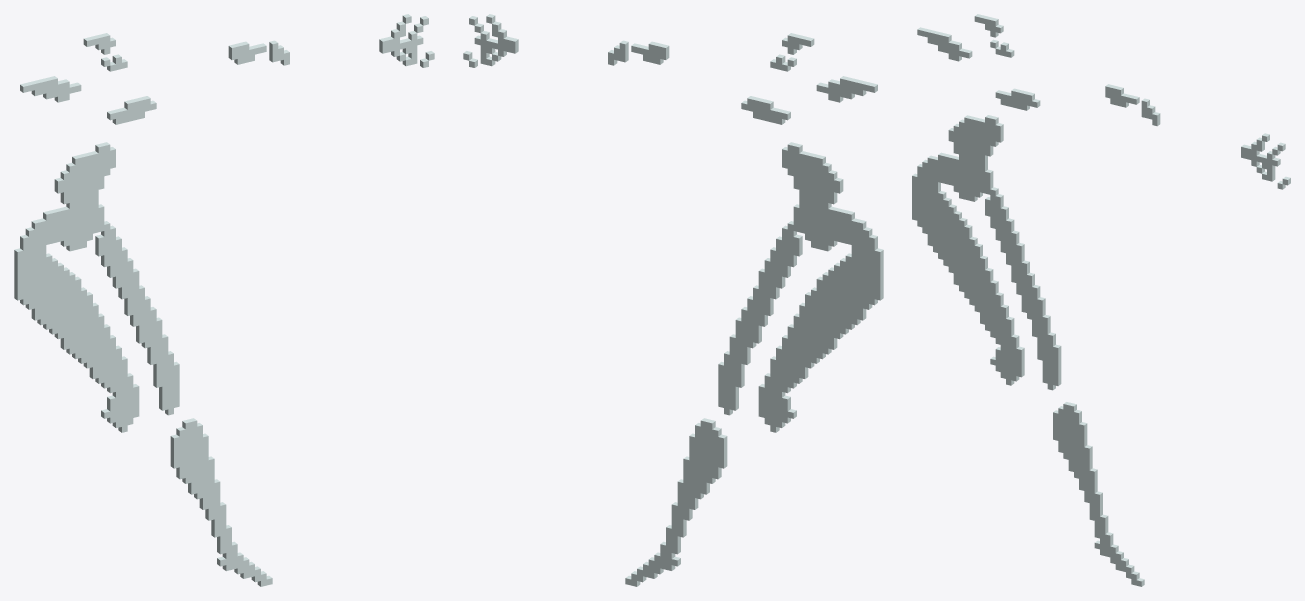
The model's file is Fight_754_2_10_fx.obj.
3 renders of one model, left to right at view 1: azimuth 30°, elevation 25°; view 2: azimuth 150°, elevation 25°; view 3: azimuth 330°, elevation 25°, orthographic. The views are drawn at different scales.
Bounding box in the file's own units: 7.2 × 9.7 × 0.1.
Materials: 1 (1 with a texture image).
